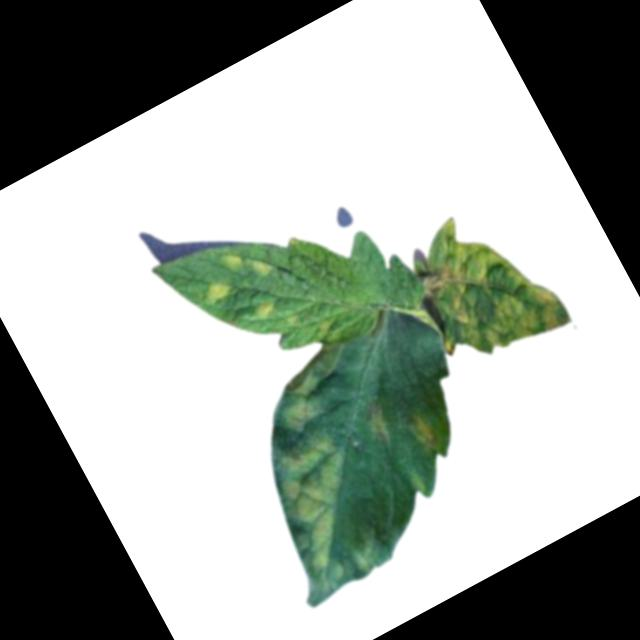Leaf_Mold: (231, 360, 404, 574), (391, 186, 574, 379), (218, 235, 276, 293), (405, 407, 443, 456), (203, 276, 234, 308), (253, 294, 283, 324)
